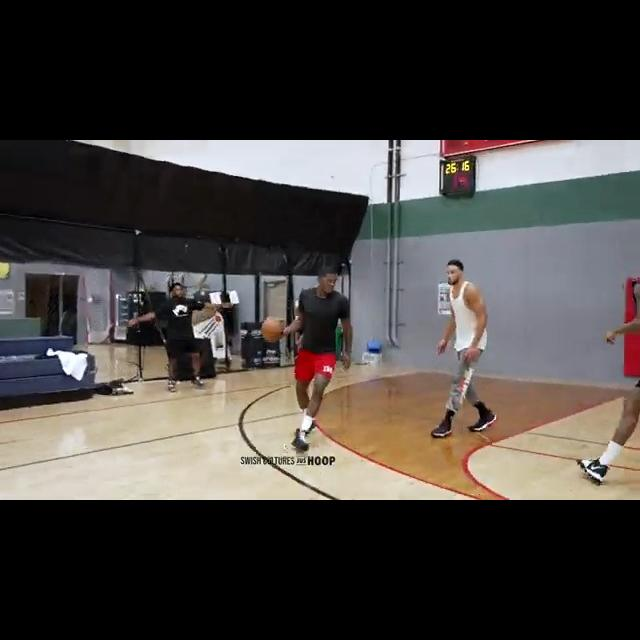basketball: (259, 316, 285, 342)
person: (278, 259, 353, 452), (577, 269, 640, 486), (426, 259, 500, 439), (128, 279, 216, 391)
